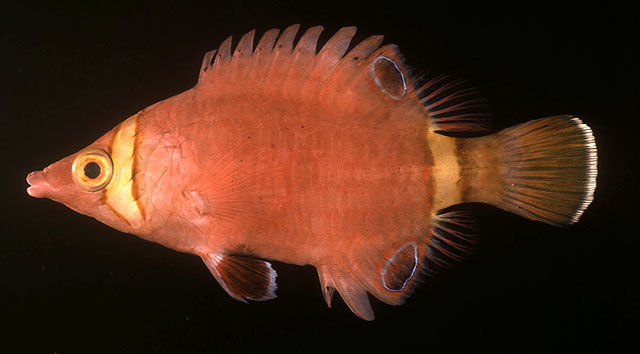fish: (26, 25, 598, 320)
